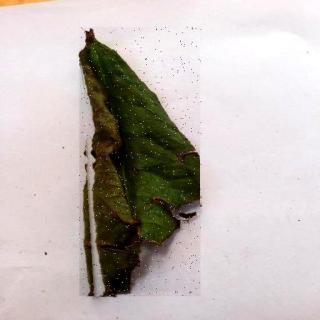Algal Leaf: (81, 28, 203, 298)
